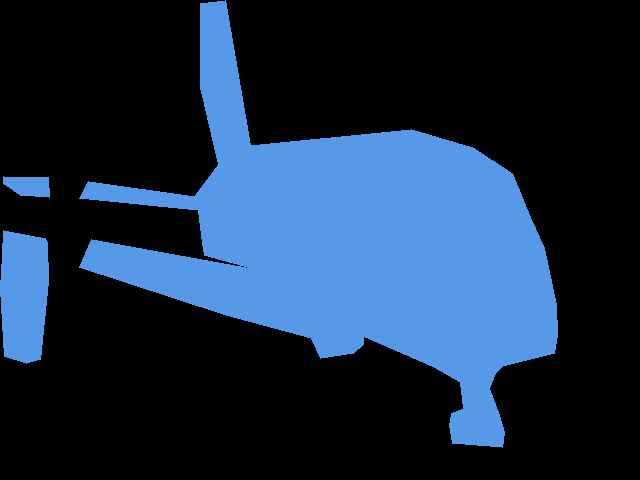Airplane: (0, 0, 557, 447)
